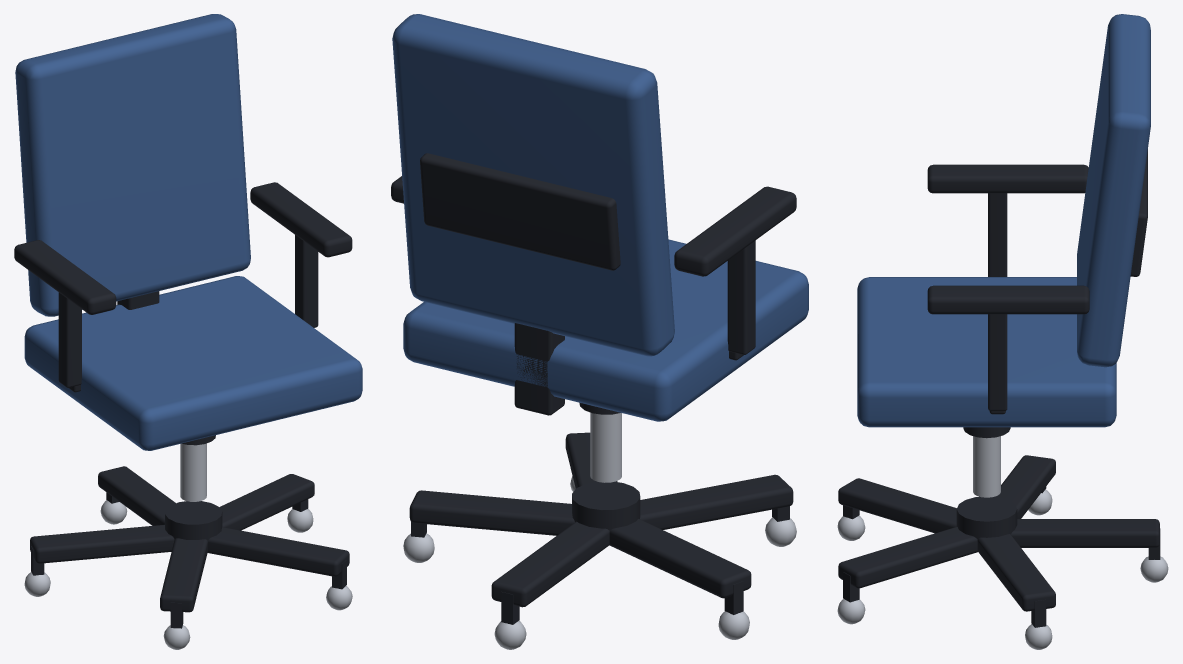
Rendered from OfficeChair.fbx.
3 renders of one model, left to right at view 1: azimuth 30°, elevation 25°; view 2: azimuth 150°, elevation 25°; view 3: azimuth 270°, elevation 25°, orthographic. The views are drawn at different scales.
Parts seen in each view (by area): view 1: OfficeChair; view 2: OfficeChair; view 3: OfficeChair.
Part boxes in pixels (x1,y1,x2,y2): OfficeChair: [14, 14, 362, 649]; OfficeChair: [391, 14, 808, 649]; OfficeChair: [837, 14, 1168, 649].
Size of the model in its own units: 0.0641 by 0.1058 by 0.0613.
